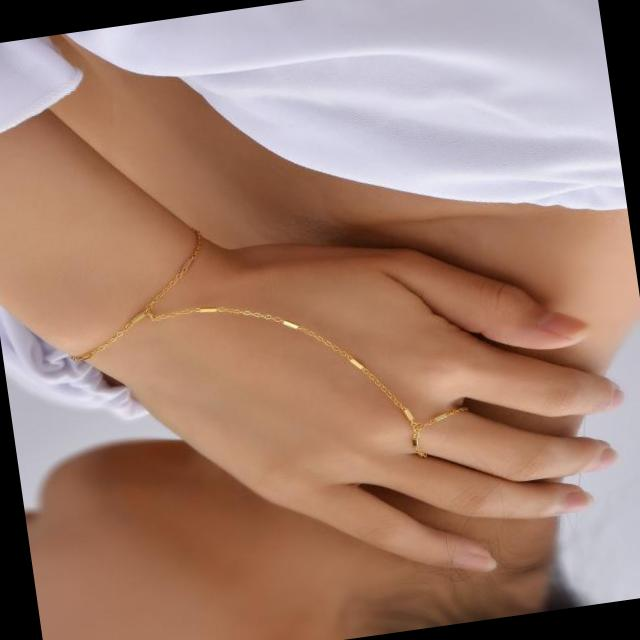Nail: (542, 308, 593, 343), (552, 487, 592, 517), (454, 553, 493, 577), (578, 448, 615, 473), (600, 388, 631, 416)
